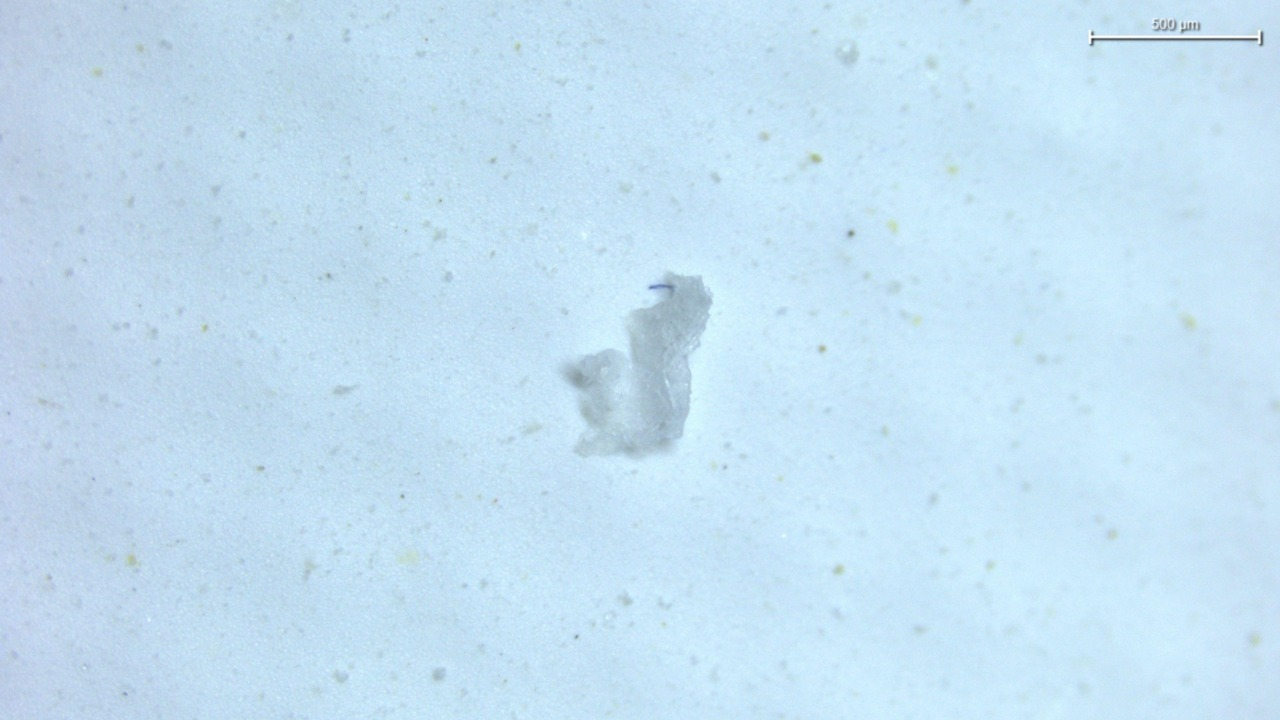microplastic_fragment: (559, 273, 712, 455)
